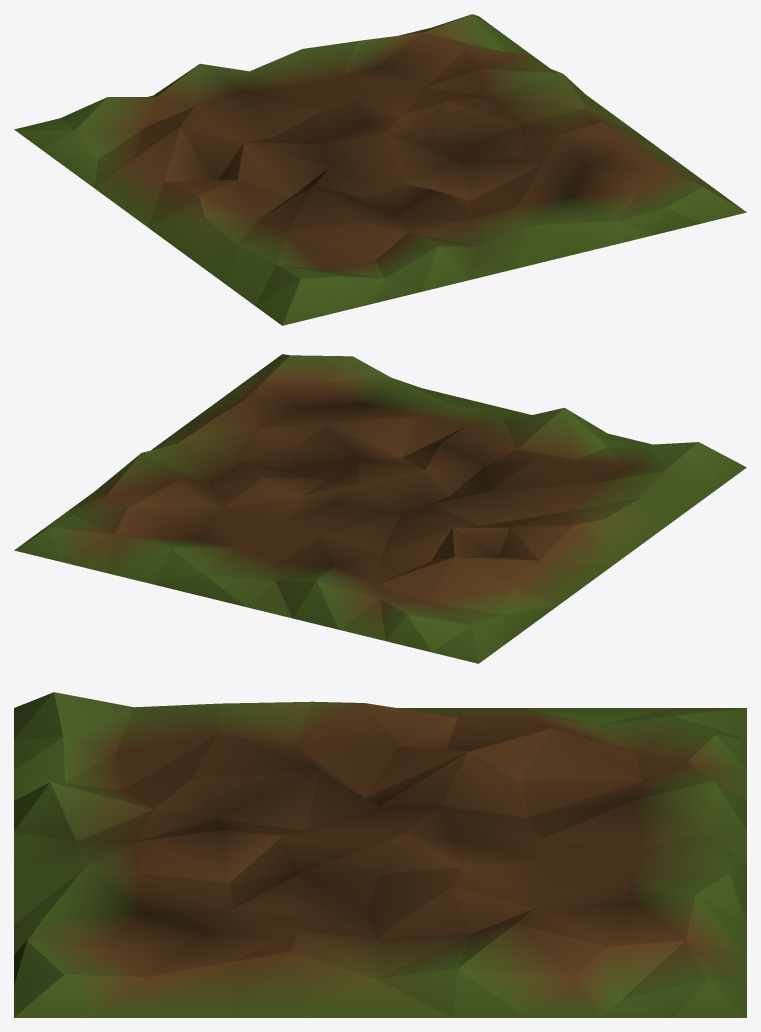
The model's file is Ground_Tile_Engrais.glb.
3 renders of one model, top to bottom at view 1: azimuth 30°, elevation 25°; view 2: azimuth 150°, elevation 25°; view 3: azimuth 270°, elevation 25°, orthographic. The views are drawn at different scales.
Parts seen in each view (by area): view 1: Tile_Ground_Engrais; view 2: Tile_Ground_Engrais; view 3: Tile_Ground_Engrais.
Part boxes in pixels (x1=…): Tile_Ground_Engrais: x1=14, y1=14, x2=746, y2=325; Tile_Ground_Engrais: x1=14, y1=354, x2=746, y2=663; Tile_Ground_Engrais: x1=14, y1=692, x2=746, y2=1017.
Size of the model in its own units: 1 by 0.0659 by 1.
